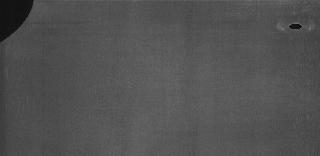punching hole: (288, 21, 304, 31)
